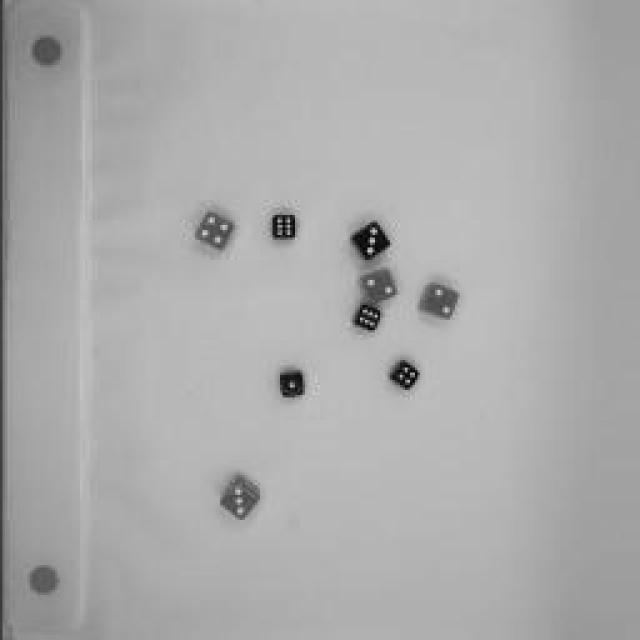dice_1: (274, 366, 308, 404)
dice_2: (350, 265, 400, 310), (414, 279, 461, 326)
dice_3: (215, 472, 265, 528), (342, 219, 392, 266)
dice_4: (192, 205, 236, 260), (382, 355, 428, 405)
dice_6: (349, 303, 381, 335), (268, 212, 298, 242)
